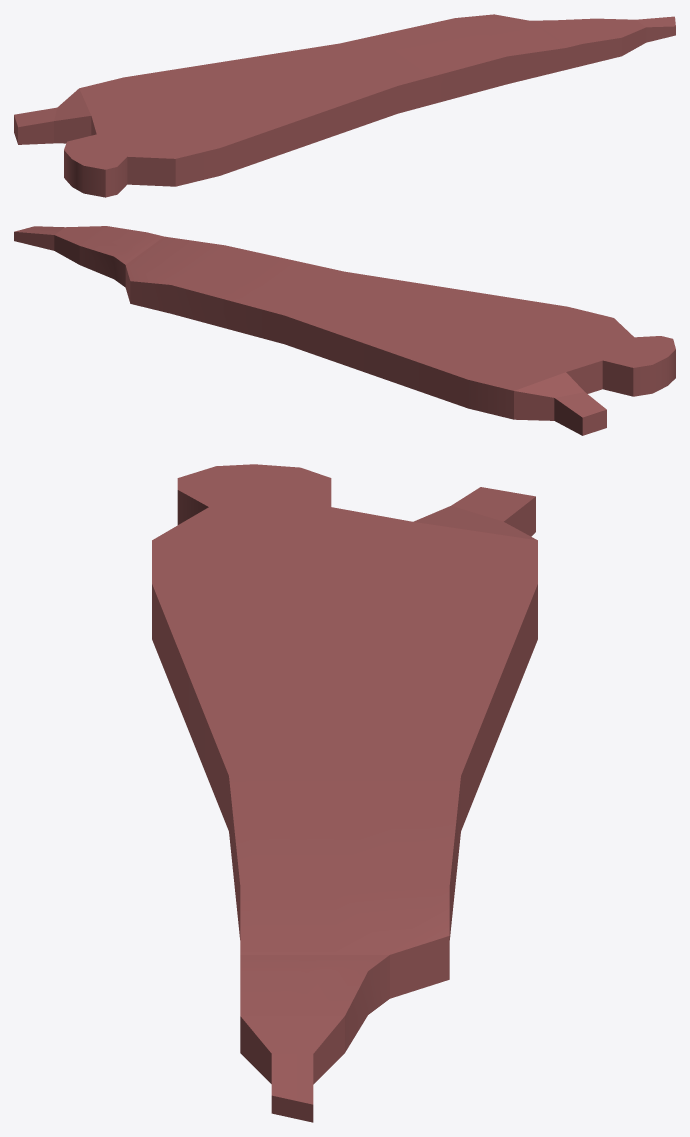
File: Carne_001.fbx
3 views of the same model, one above another, from view 1: azimuth 30°, elevation 25°; view 2: azimuth 150°, elevation 25°; view 3: azimuth 270°, elevation 25° (orthographic). The views are drawn at different scales.
Visible parts, largest first — view 1: Carne_001; view 2: Carne_001; view 3: Carne_001.
Boxes of the visible parts, x1,y1,x2,y2 form: Carne_001: (14, 14, 675, 197); Carne_001: (14, 226, 675, 435); Carne_001: (152, 464, 537, 1122).
Bounding box in the file's own units: 0.0449 × 0.00194 × 0.0122.
